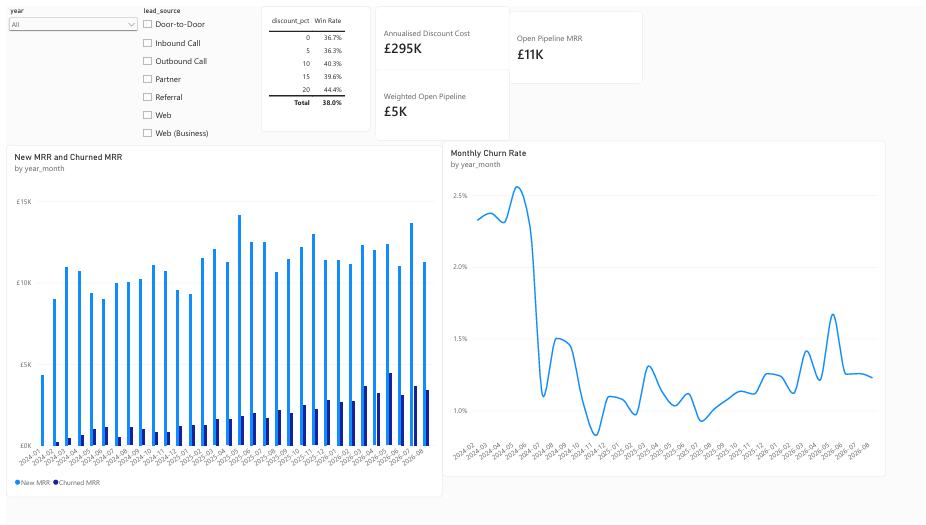

Layout of this report page (visuals, bound fields, positions):
{"tool":"powerbi","page":{"name":"Revenue and churn","canvas":[1920,1080],"ordinal":3},"visuals":[{"type":"slicer","fields":{"Values":["dim_date.year"]},"box":[0,0,280,160],"z":0},{"type":"slicer","fields":{"Values":["dim_lead_source.lead_source"]},"box":[279.2,0,214.8,289.9],"z":1},{"type":"clusteredColumnChart","fields":{"Category":["dim_date.year_month"],"Y":["_Measures.New MRR","_Measures.Churned MRR"]},"box":[0,289.9,912.8,736.6],"z":2},{"type":"lineChart","fields":{"Category":["dim_date.year_month"],"Y":["_Measures.Monthly Churn Rate"]},"box":[912.8,281.3,927.8,702.3],"z":3},{"type":"cardVisual","fields":{"Data":["_Measures.Annualised Discount Cost"]},"box":[773.2,0,280,150],"z":5},{"type":"cardVisual","fields":{"Data":["_Measures.Open Pipeline MRR"]},"box":[1052.3,10.7,280,150],"z":6},{"type":"cardVisual","fields":{"Data":["_Measures.Weighted Open Pipeline"]},"box":[773.2,131,280,150],"z":7},{"type":"tableEx","fields":{"Values":["fact_opportunity.discount_pct","_Measures.Win Rate"]},"box":[532.6,0,229.8,262],"z":8}]}

Visuals, with their boxes in screenshot pixels (x1, y1, x2, y2), scaled from the page's 1920x1080 canvas onto the 926x525 screenshot:
slicer - dim_date.year: detection(0, 0, 135, 78)
slicer - dim_lead_source.lead_source: detection(135, 0, 238, 141)
clusteredColumnChart - dim_date.year_month x _Measures.New MRR: detection(0, 141, 440, 499)
lineChart - dim_date.year_month x _Measures.Monthly Churn Rate: detection(440, 137, 888, 478)
cardVisual - _Measures.Annualised Discount Cost: detection(373, 0, 508, 73)
cardVisual - _Measures.Open Pipeline MRR: detection(508, 5, 643, 78)
cardVisual - _Measures.Weighted Open Pipeline: detection(373, 64, 508, 137)
tableEx - fact_opportunity.discount_pct x _Measures.Win Rate: detection(257, 0, 368, 127)
